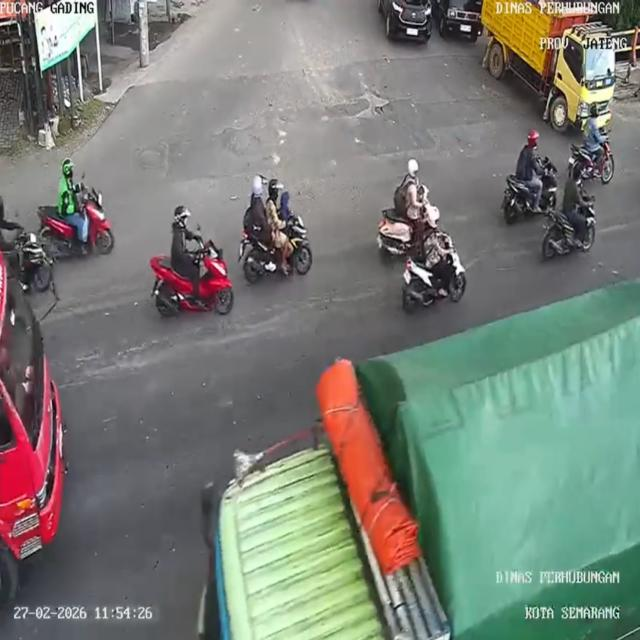motorcycle: (148, 250, 238, 322), (240, 217, 314, 288), (39, 200, 121, 263), (396, 253, 470, 309), (378, 204, 439, 257), (8, 225, 52, 298), (538, 207, 597, 260), (500, 168, 560, 213), (568, 140, 616, 188)
person: (168, 205, 198, 277), (419, 205, 448, 269), (396, 156, 426, 217), (56, 155, 81, 225), (516, 130, 544, 184), (246, 175, 268, 238), (584, 102, 604, 160), (563, 169, 586, 217), (267, 176, 282, 240), (274, 187, 296, 226)
rider_region: (147, 204, 237, 318), (240, 175, 315, 282), (41, 153, 118, 257), (399, 206, 474, 310), (371, 152, 443, 252), (498, 128, 560, 218), (544, 169, 602, 260), (570, 103, 616, 183)
